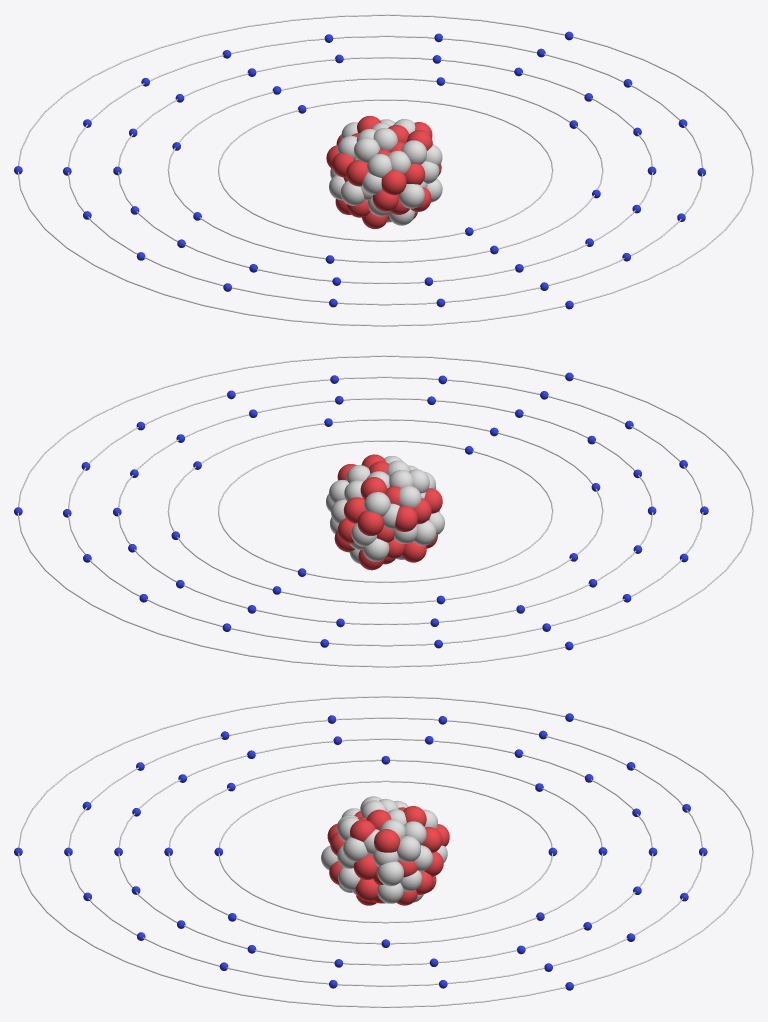
File: Indium.glb
3 renders of one model, top to bottom at view 1: azimuth 30°, elevation 25°; view 2: azimuth 150°, elevation 25°; view 3: azimuth 270°, elevation 25°, orthographic.
Parts seen in each view (by area): view 1: O-Schale, N-Schale, M-Schale, L-Schale, K-Schale; view 2: O-Schale, N-Schale, M-Schale, L-Schale, K-Schale, Proton 47; view 3: O-Schale, N-Schale, M-Schale, L-Schale, K-Schale, Neutron 62, Proton 44.
Boxes of the visible parts, x1=… form: O-Schale: x1=17, y1=14, x2=753, y2=326; N-Schale: x1=68, y1=35, x2=703, y2=305; M-Schale: x1=118, y1=57, x2=653, y2=283; L-Schale: x1=167, y1=78, x2=603, y2=262; K-Schale: x1=218, y1=99, x2=553, y2=241; O-Schale: x1=17, y1=355, x2=753, y2=667; N-Schale: x1=68, y1=376, x2=703, y2=646; M-Schale: x1=118, y1=398, x2=653, y2=624; L-Schale: x1=167, y1=419, x2=603, y2=603; K-Schale: x1=218, y1=440, x2=553, y2=582; Proton 47: x1=357, y1=510, x2=383, y2=535; O-Schale: x1=18, y1=696, x2=753, y2=1007; N-Schale: x1=68, y1=717, x2=703, y2=986; M-Schale: x1=118, y1=738, x2=653, y2=965; L-Schale: x1=168, y1=759, x2=603, y2=944; K-Schale: x1=218, y1=780, x2=552, y2=923; Neutron 62: x1=377, y1=861, x2=403, y2=886; Proton 44: x1=374, y1=829, x2=400, y2=852.
Bounding box in the file's own units: 22.04 × 3.21 × 22.15.
